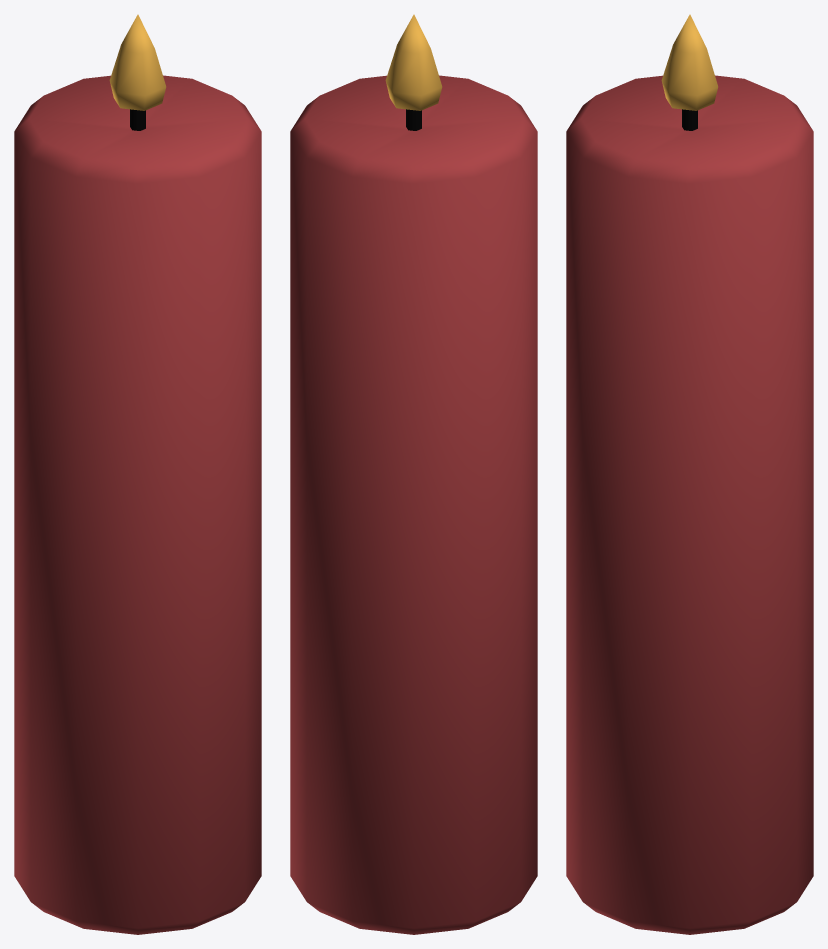
The model's file is candle_tall.fbx.
3 views of the same model, side by side, from view 1: azimuth 30°, elevation 25°; view 2: azimuth 150°, elevation 25°; view 3: azimuth 270°, elevation 25° (orthographic).
Parts seen in each view (by area): view 1: candle.tall; view 2: candle.tall; view 3: candle.tall.
Part boxes in pixels (x1,y1,x2,y2): candle.tall: [14, 14, 261, 934]; candle.tall: [290, 14, 537, 934]; candle.tall: [566, 14, 813, 934].
Size of the model in its own units: 14.56 by 56.79 by 14.56.
